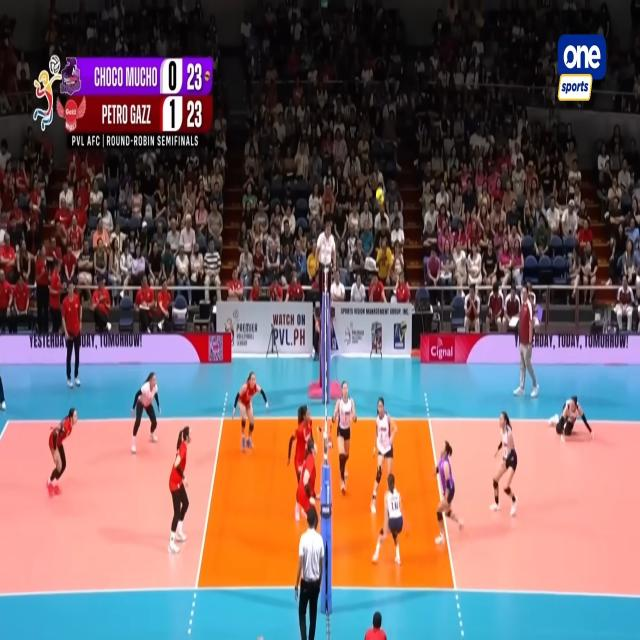Volleyball-Ball: (376, 186, 384, 205)
